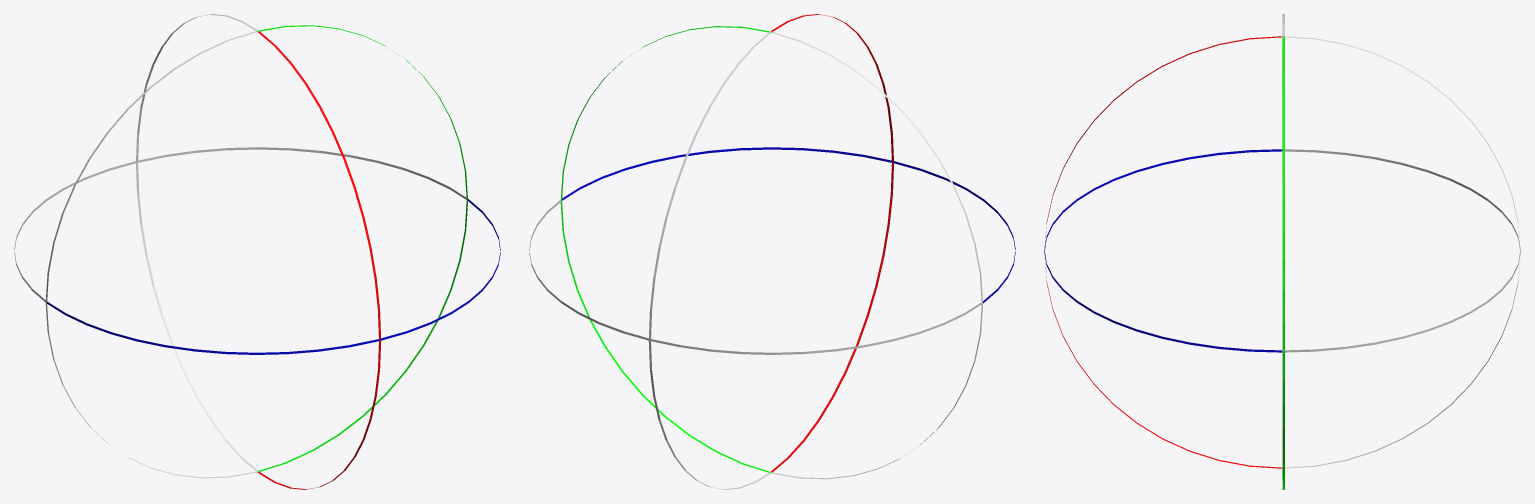
Rendered from xyz.fbx.
The picture shows the model from 3 angles, left to right: view 1: azimuth 30°, elevation 25°; view 2: azimuth 150°, elevation 25°; view 3: azimuth 270°, elevation 25°; orthographic projection. The views are drawn at different scales.
Parts seen in each view (by area): view 1: z, x, y; view 2: z, x, y; view 3: z, x, y.
Boxes of the visible parts, left/top/right/bottom form: z: left=14, top=147, right=500, bottom=354; x: left=136, top=14, right=381, bottom=489; y: left=45, top=25, right=467, bottom=478; z: left=529, top=147, right=1015, bottom=354; x: left=648, top=14, right=893, bottom=489; y: left=560, top=26, right=982, bottom=479; z: left=1044, top=149, right=1520, bottom=352; x: left=1044, top=36, right=1520, bottom=468; y: left=1282, top=14, right=1284, bottom=489.
Bounding box in the file's own units: 100 × 100 × 100.
